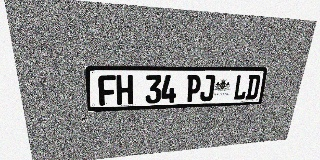3: (145, 75, 162, 104)
4: (161, 75, 177, 103)
D: (245, 75, 261, 100)
F: (98, 75, 116, 106)
H: (116, 75, 133, 105)
J: (199, 75, 216, 102)
L: (233, 75, 249, 100)
P: (185, 75, 202, 102)
